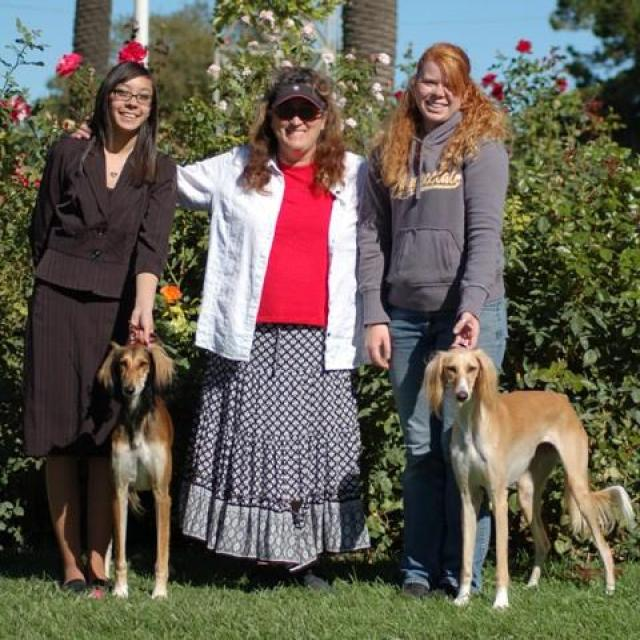saluki: (419, 344, 616, 612), (93, 330, 179, 604)
